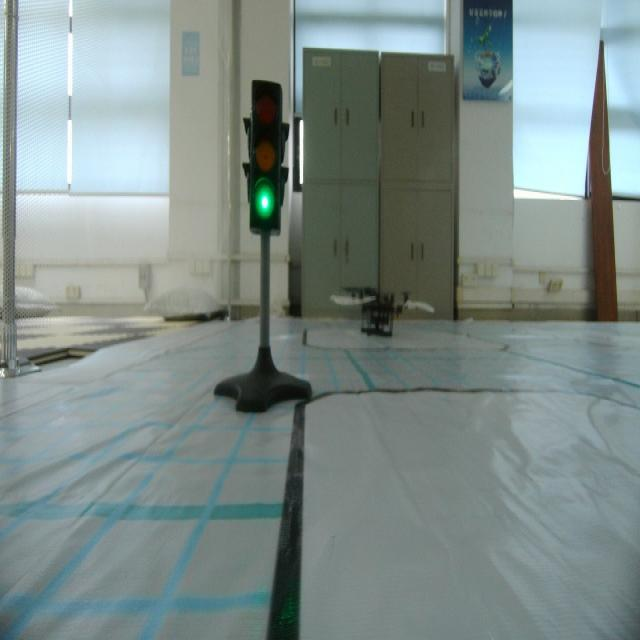green: (246, 73, 292, 249)
